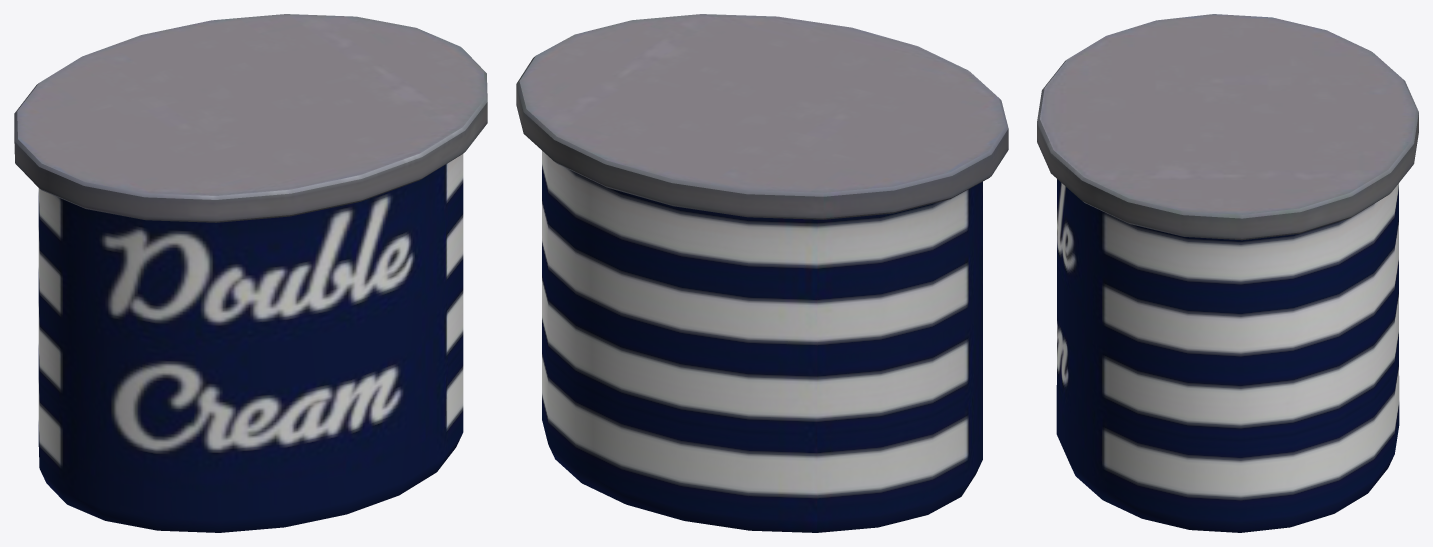
Rendered from doubleCream.gltf.
3 views of the same model, side by side, from view 1: azimuth 30°, elevation 25°; view 2: azimuth 150°, elevation 25°; view 3: azimuth 270°, elevation 25° (orthographic). The views are drawn at different scales.
Visible parts, largest first — view 1: Cream; view 2: Cream; view 3: Cream.
Boxes of the visible parts, x1=… form: Cream: x1=14, y1=14, x2=487, y2=532; Cream: x1=516, y1=14, x2=1008, y2=532; Cream: x1=1037, y1=14, x2=1418, y2=532.
Bounding box in the file's own units: 0.1541 × 0.1189 × 0.1223.
Materials: 1 (1 with a texture image).
